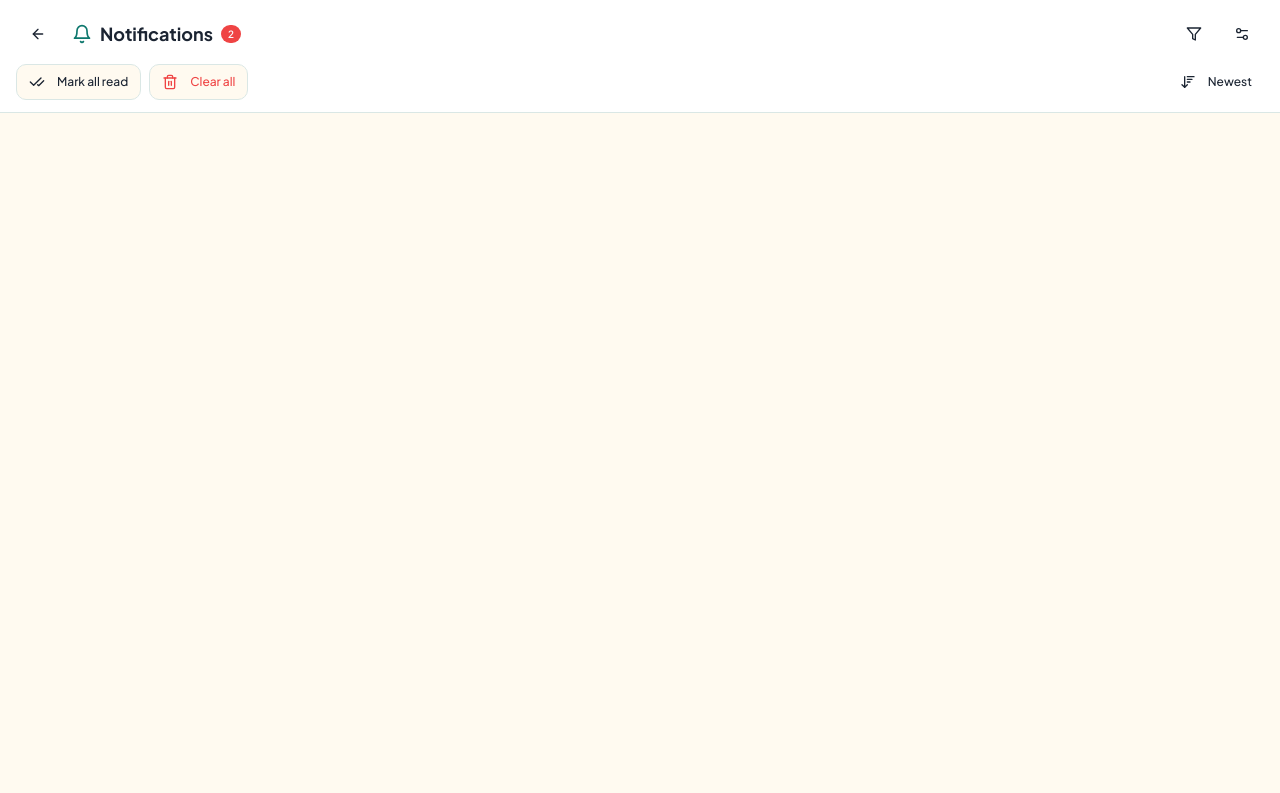
Notification filters › Notifications page filter by type Prayer shows only prayer_reminder
Step 1. Click the button named "Toggle filters" → point(1194, 34), box [1172,12,1216,56]
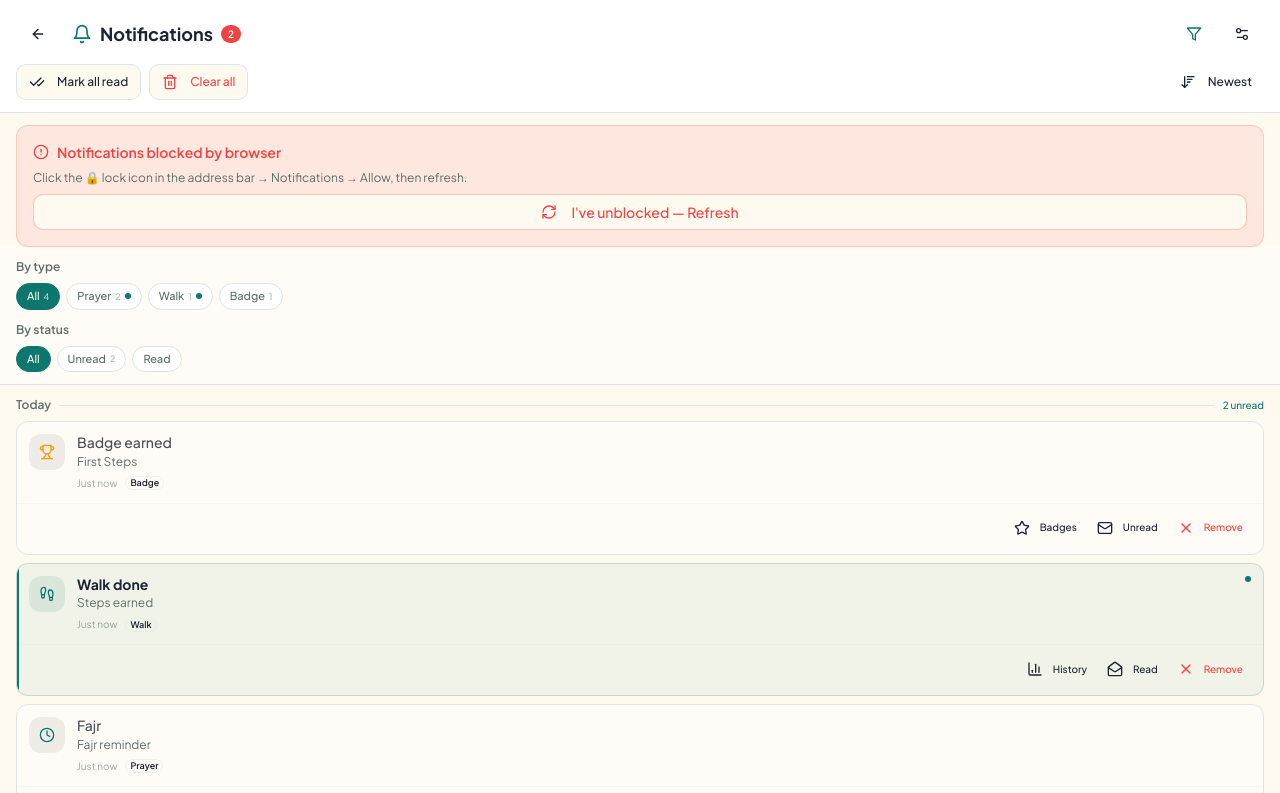
Step 2. Click the button with test id "filter-type-prayer_reminder" → point(104, 296), box [66,283,142,310]
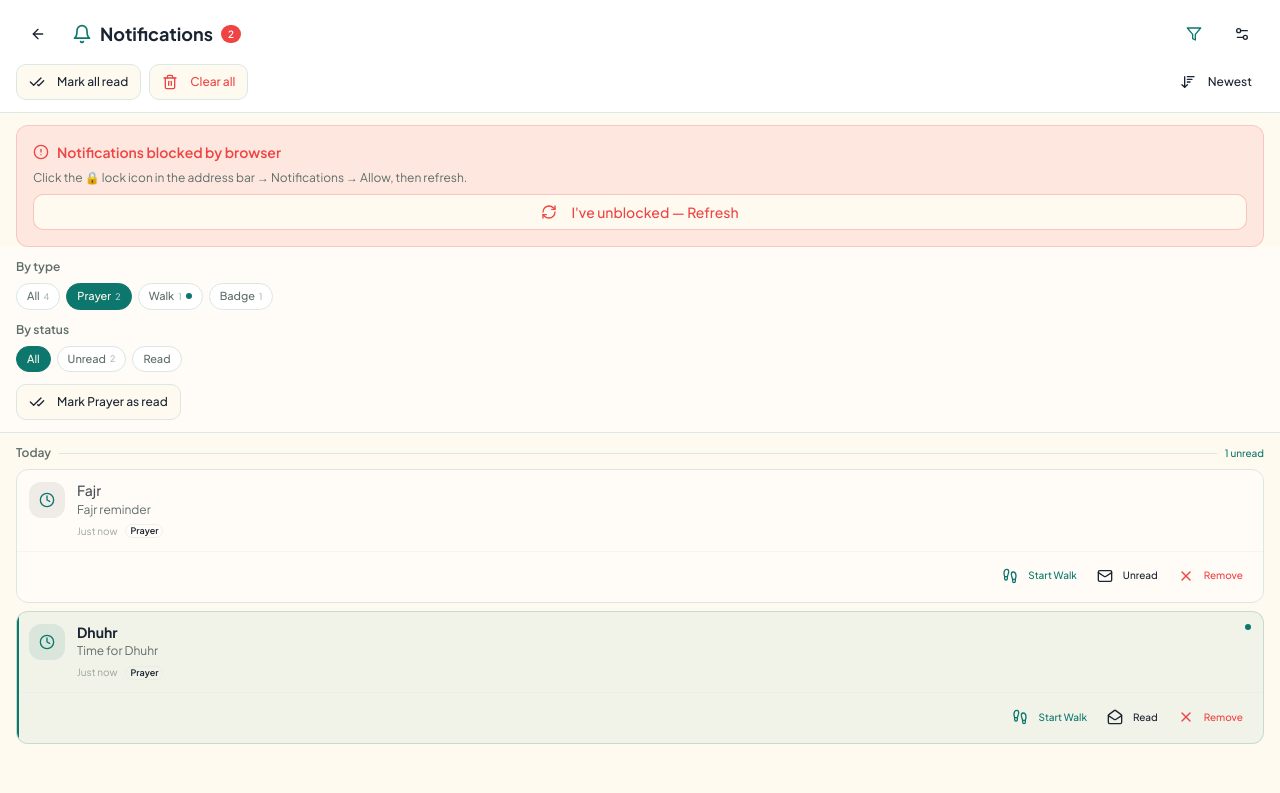
Check: the text "Dhuhr" is shown, box [77,624,118,641]
Check: the text "Walk done" is gone
Check: the text "Badge earned" is gone
